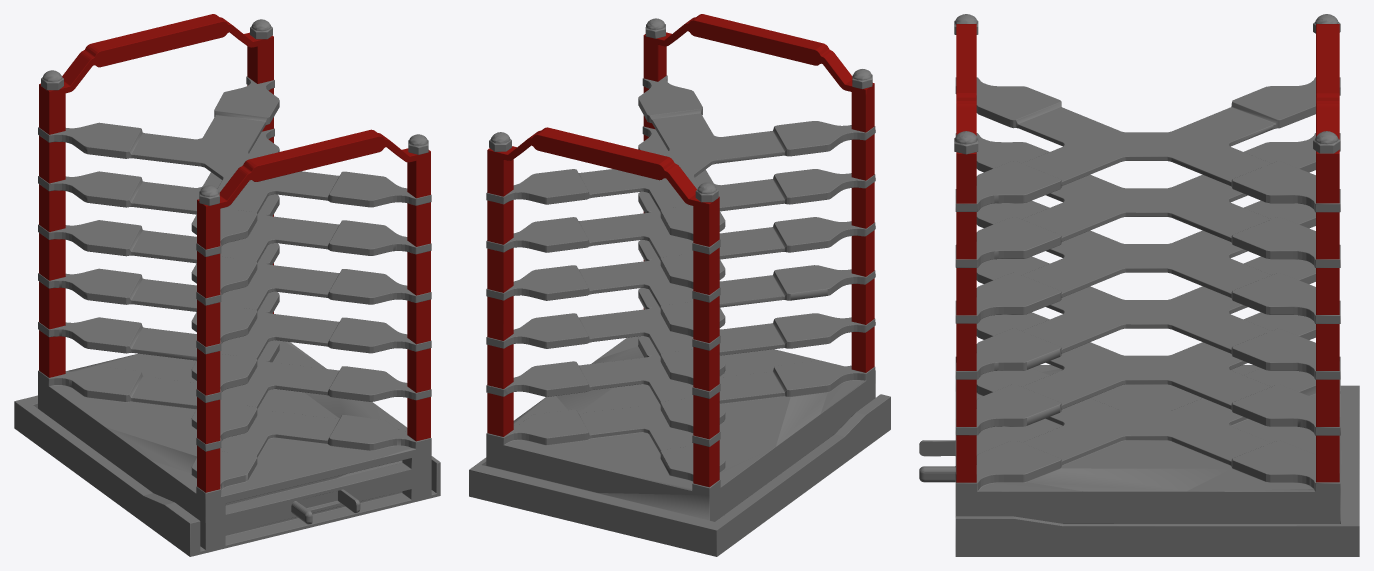
3 views of the same model, side by side, from view 1: azimuth 30°, elevation 25°; view 2: azimuth 150°, elevation 25°; view 3: azimuth 270°, elevation 25° (orthographic). The views are drawn at different scales.
Visible parts, largest first — view 1: 105; view 2: 105; view 3: 105.
Boxes of the visible parts, <box> form: 105: <box>14,14,440,556</box>; 105: <box>469,14,890,556</box>; 105: <box>919,14,1359,556</box>.
Bounding box in the file's own units: 0.1641 × 0.234 × 0.2174.
